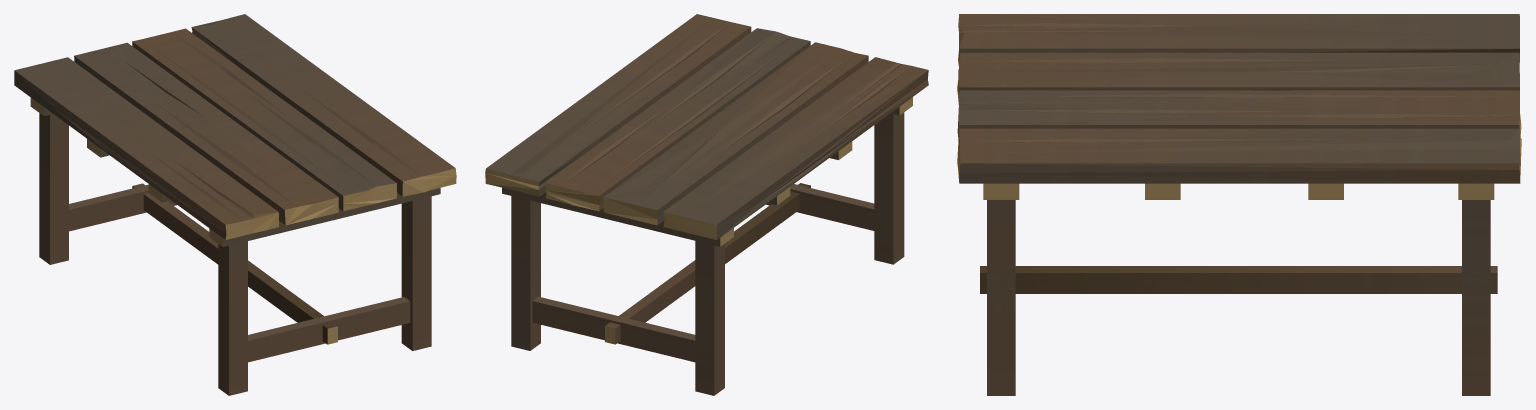
The model's file is Table.fbx.
The picture shows the model from 3 angles, left to right: view 1: azimuth 30°, elevation 25°; view 2: azimuth 150°, elevation 25°; view 3: azimuth 270°, elevation 25°; orthographic projection. The views are drawn at different scales.
Parts seen in each view (by area): view 1: polySurface9715; view 2: polySurface9715; view 3: polySurface9715.
Part boxes in pixels (x1,y1,x2,y2): polySurface9715: [14, 14, 456, 395]; polySurface9715: [485, 14, 928, 395]; polySurface9715: [957, 14, 1521, 395].
Size of the model in its own units: 158 by 120 by 252.
